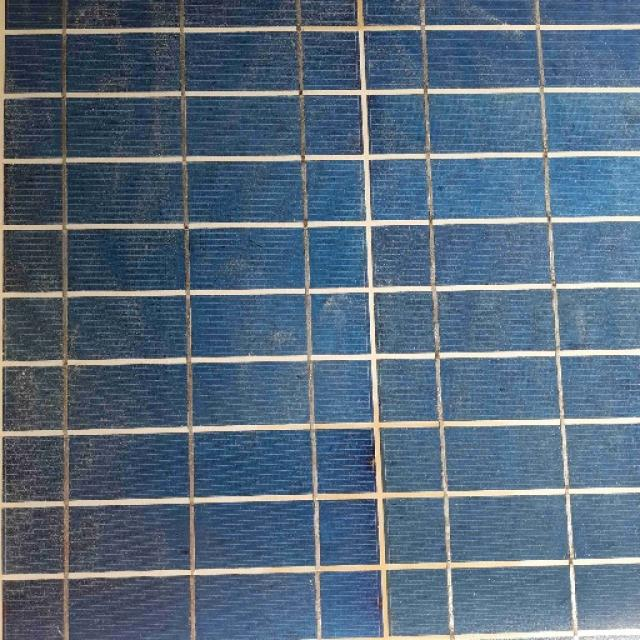Dirty: (0, 94, 640, 640)
